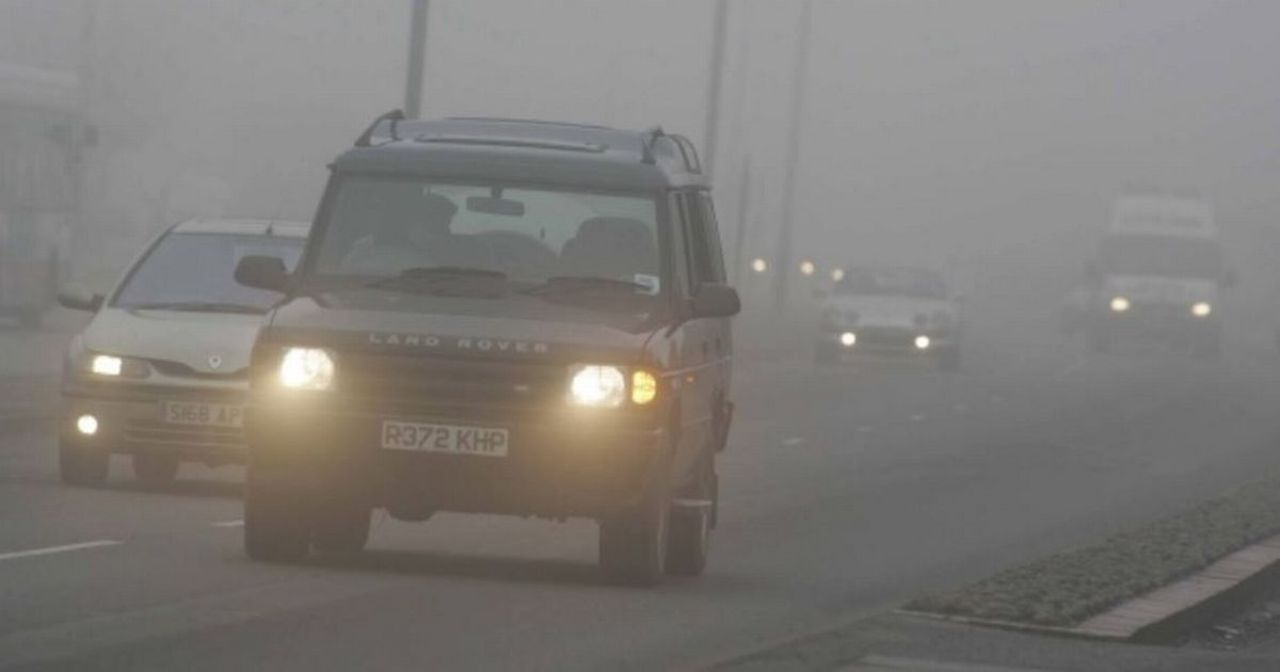car: (255, 111, 731, 582), (60, 220, 291, 486), (1097, 191, 1230, 353), (818, 265, 961, 368)
